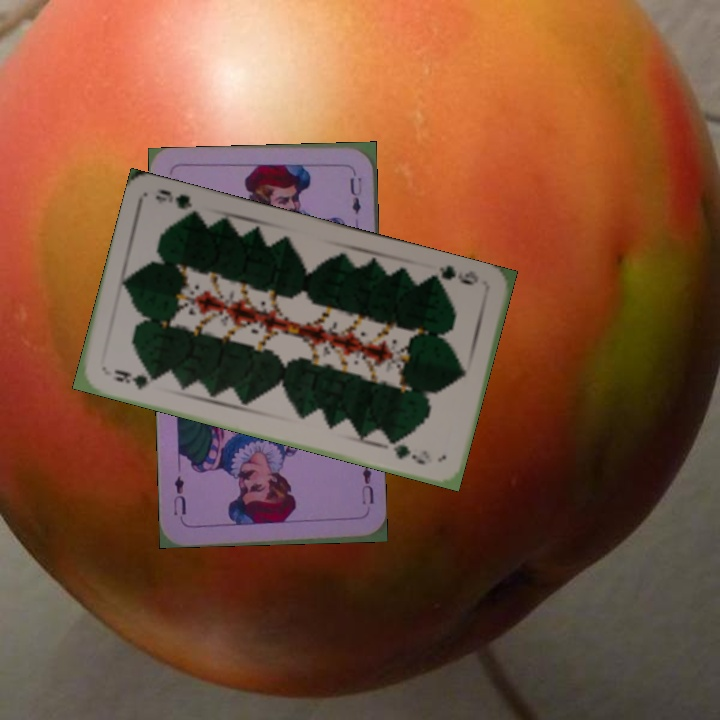EU: (358, 462, 376, 507)
G9: (427, 261, 481, 288), (109, 365, 159, 392)
